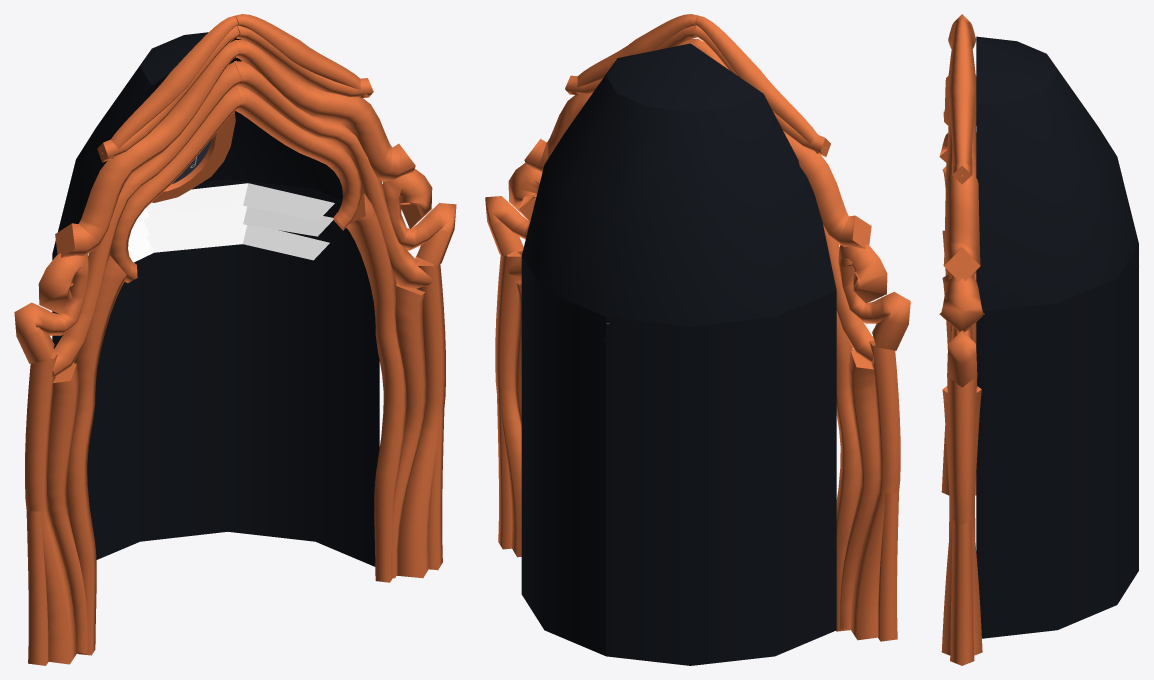
The model's file is organ.glb.
3 views of the same model, side by side, from view 1: azimuth 30°, elevation 25°; view 2: azimuth 150°, elevation 25°; view 3: azimuth 270°, elevation 25° (orthographic). The views are drawn at different scales.
Visible parts, largest first — view 1: Cylinder.029, BézierCurve.008, BézierCurve.012, BézierCurve.005, BézierCurve.004, BézierCurve.011, BézierCurve.010, BézierCurve.007, BézierCurve.009, BézierCurve.013, Circle, Circle.002 (+3 smaller); view 2: Cylinder.029, BézierCurve.012, BézierCurve.010, BézierCurve.011, BézierCurve.005, BézierCurve.009, BézierCurve.008, BézierCurve.013, BézierCurve.004, BézierCurve.006; view 3: Cylinder.029, BézierCurve.012, BézierCurve.005, BézierCurve.009, BézierCurve.010, BézierCurve.013, BézierCurve.011, BézierCurve.006, BézierCurve.008.
Part boxes in pixels (<box>): Cylinder.029: <box>52,32,379,566</box>; BézierCurve.008: <box>66,193,406,655</box>; BézierCurve.012: <box>25,255,445,664</box>; BézierCurve.005: <box>55,40,415,257</box>; BézierCurve.004: <box>52,60,432,376</box>; BézierCurve.011: <box>47,283,426,653</box>; BézierCurve.010: <box>14,169,456,363</box>; BézierCurve.007: <box>110,86,361,283</box>; BézierCurve.009: <box>102,14,367,158</box>; BézierCurve.013: <box>26,409,444,665</box>; Circle: <box>128,224,329,262</box>; Circle.002: <box>88,183,334,255</box>; Cylinder.029: <box>521,43,836,665</box>; BézierCurve.012: <box>495,247,900,640</box>; BézierCurve.010: <box>485,163,910,350</box>; BézierCurve.011: <box>514,279,879,629</box>; BézierCurve.005: <box>524,38,871,248</box>; BézierCurve.009: <box>570,14,826,153</box>; BézierCurve.008: <box>836,311,860,631</box>; BézierCurve.013: <box>497,395,898,641</box>; BézierCurve.004: <box>508,227,874,362</box>; BézierCurve.006: <box>565,25,830,156</box>; Cylinder.029: <box>976,36,1138,638</box>; BézierCurve.012: <box>941,376,982,655</box>; BézierCurve.005: <box>943,51,980,281</box>; BézierCurve.009: <box>948,14,976,176</box>; BézierCurve.010: <box>939,133,984,387</box>; BézierCurve.013: <box>950,520,974,665</box>; BézierCurve.011: <box>942,230,981,500</box>; BézierCurve.006: <box>952,29,972,184</box>; BézierCurve.008: <box>942,166,976,538</box>.
Bounding box in the file's own units: 20.36 × 26.4 × 8.6.
Materials: 4 (1 with a texture image).
